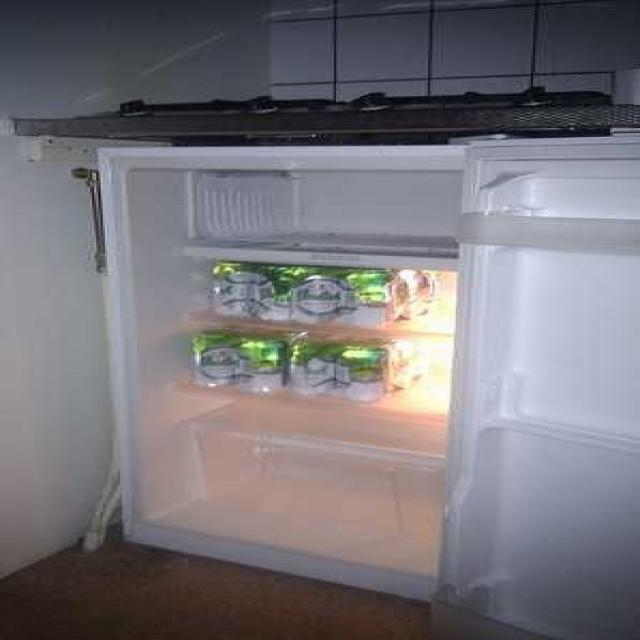refrigerator: (100, 144, 628, 582)
